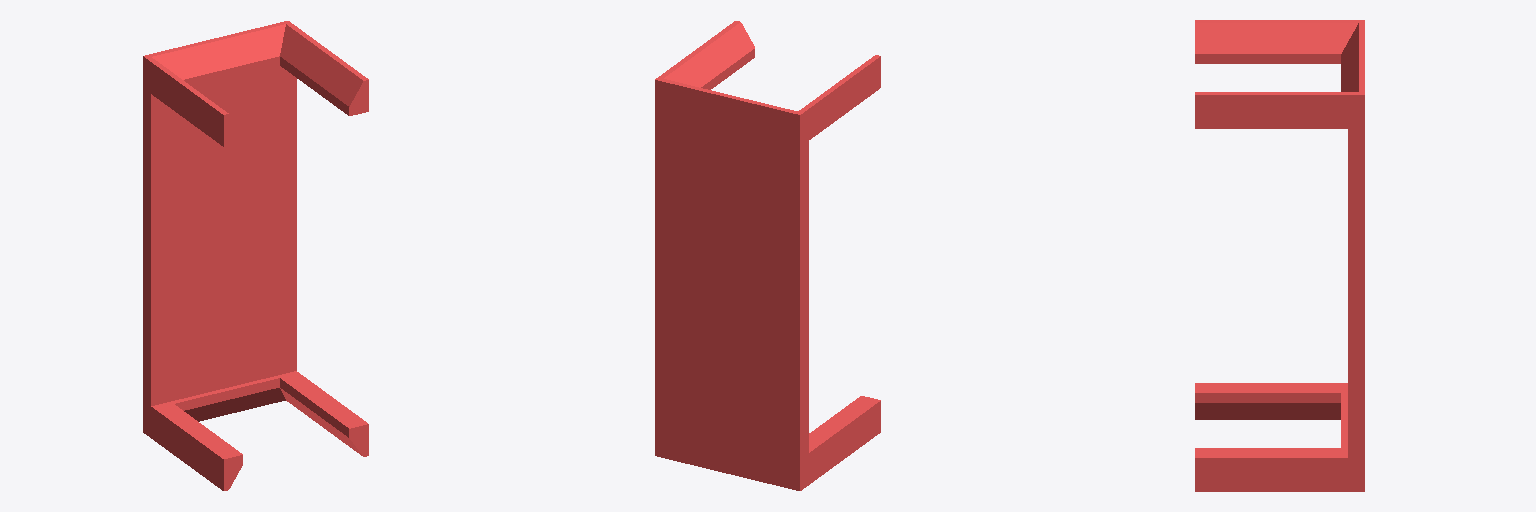
URDF robot description (cube.urdf):
<?xml version="1.0"?>
<robot name="cube.urdf">
  <link name="baseLink">
    <contact>
      <lateral_friction value="0.5" />
      <rolling_friction value="0.0" />
      <contact_cfm value="0.0" />
      <contact_erp value="1.0" />
    </contact>
    <inertial>
      <origin rpy="0 0 0" xyz="0.00 0.00 0.00" />
      <mass value=".1" />
      <inertia ixx="1" ixy="0" ixz="0" iyy="1" iyz="0" izz="1" />
    </inertial>
    <visual>
      <origin rpy="0 0 0" xyz="0 0 0" />
      <geometry>
        <mesh filename="model.obj" scale=".1 .1 .1" />
      </geometry>
      <material name="red">
        <color rgba="1 0.4 0.4 1" />
      </material>
    </visual>
    <collision>
      <origin rpy="0 0 0" xyz="0 0 0" />
      <geometry>
        <mesh filename="model.obj" scale=".1 .1 .1" />
      </geometry>
    </collision>
  </link>
</robot>

--- Render facts (derived) ---
The picture shows the robot from 3 angles, left to right: view 1: azimuth 30°, elevation 25°; view 2: azimuth 150°, elevation 25°; view 3: azimuth 270°, elevation 25°; orthographic projection.
Robot: cube.urdf — 1 links, 0 joints (none); root link baseLink; default pose: all joints at 0.
Visible links, largest first — view 1: baseLink; view 2: baseLink; view 3: baseLink.
Link boxes in pixels (x1,y1,x2,y2): baseLink: [143, 21, 368, 490]; baseLink: [655, 21, 880, 490]; baseLink: [1195, 20, 1364, 491].
Size in the robot's own frame: 0.0353 by 0.034 by 0.0872 metres.
1 mesh visuals loaded from 1 distinct referenced files (1 OBJ).